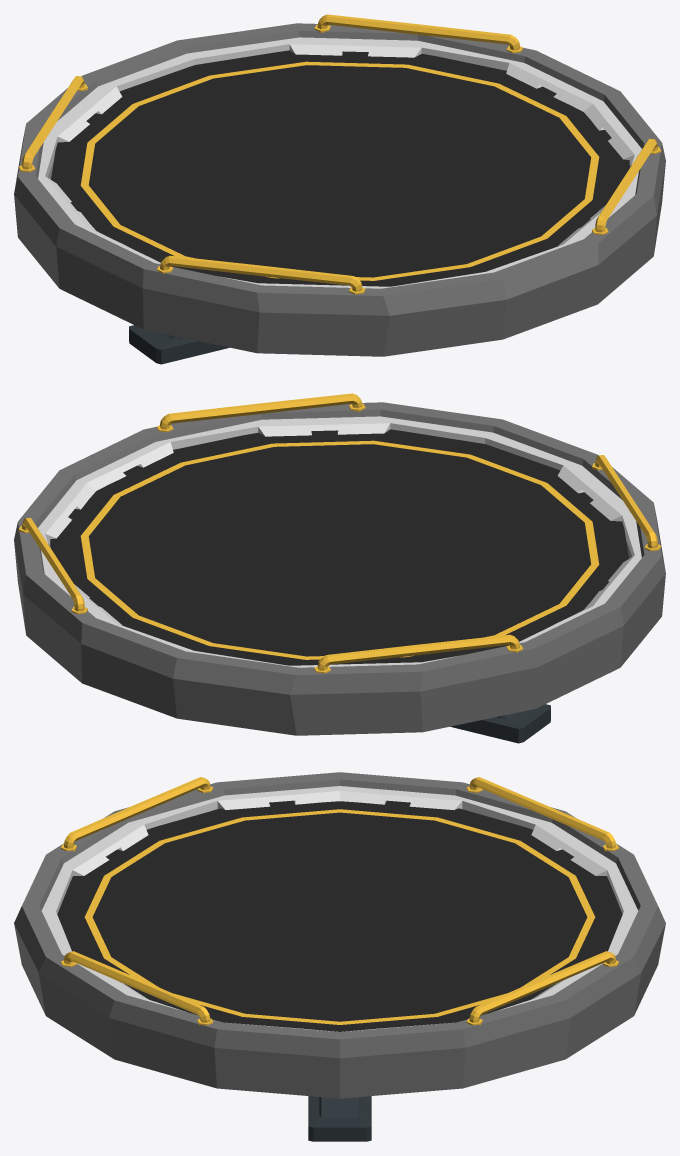
File: O_road.glb
3 views of the same model, one above another, from view 1: azimuth 30°, elevation 25°; view 2: azimuth 150°, elevation 25°; view 3: azimuth 270°, elevation 25° (orthographic). The views are drawn at different scales.
Visible parts, largest first — view 1: dian, 立方体.019, 立方体.007, 柱体.005, 平面.016, 立方体.018; view 2: dian, 立方体.019, 立方体.007, 柱体.005, 平面.016, 立方体.018; view 3: dian, 立方体.019, 立方体.007, 柱体.005, 平面.016, 立方体.018.
Part boxes in pixels (box(x1,y1,x2,y2)): dian: box(51, 50, 629, 286); 立方体.019: box(14, 23, 665, 356); 立方体.007: box(38, 37, 641, 288); 柱体.005: box(18, 14, 661, 294); 平面.016: box(80, 61, 599, 280); 立方体.018: box(129, 325, 229, 364); dian: box(50, 429, 628, 665); 立方体.019: box(14, 402, 665, 735); 立方体.007: box(38, 416, 641, 667); 柱体.005: box(18, 393, 661, 673); 平面.016: box(80, 440, 599, 659); 立方体.018: box(450, 704, 550, 743); dian: box(57, 800, 622, 1031); 立方体.019: box(14, 772, 665, 1098); 立方体.007: box(41, 786, 638, 1031); 柱体.005: box(60, 777, 619, 1025); 平面.016: box(84, 809, 595, 1024); 立方体.018: box(308, 1096, 371, 1141).
Size of the model in its own units: 9.9 by 2.65 by 10.08.
